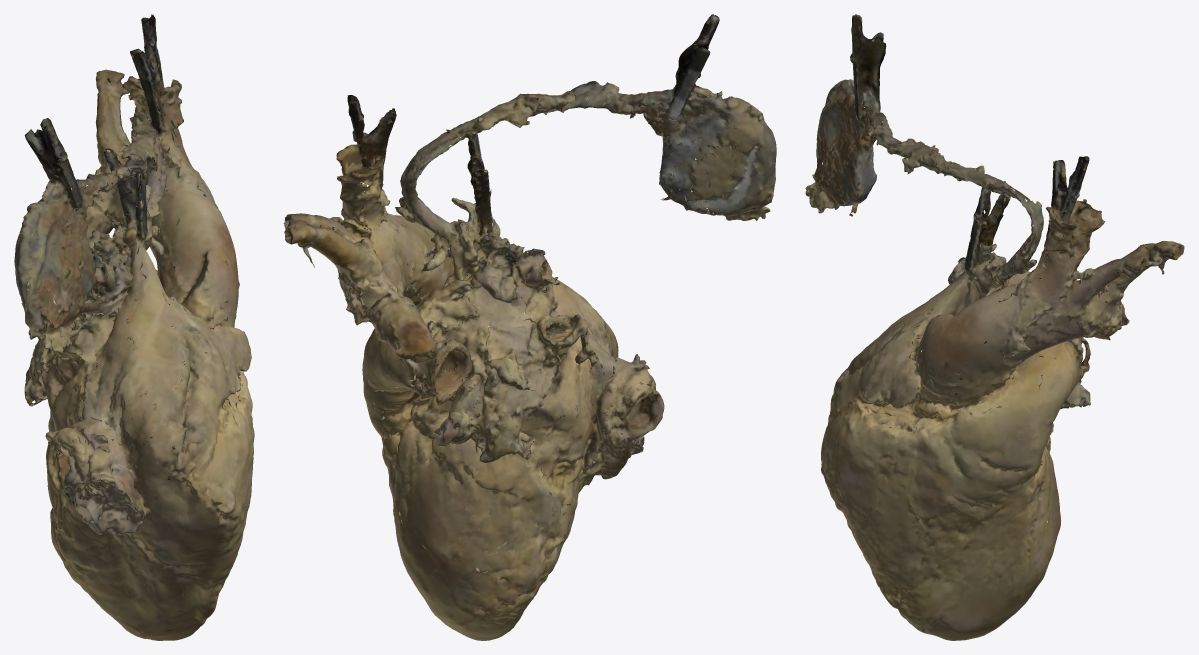
The model's file is heart-with-pace-marker.glb.
3 renders of one model, left to right at view 1: azimuth 30°, elevation 25°; view 2: azimuth 150°, elevation 25°; view 3: azimuth 270°, elevation 25°, orthographic. The views are drawn at different scales.
Visible parts, largest first — view 1: HeartPartTwo, HeartPartOne; view 2: HeartPartOne, HeartPartTwo; view 3: HeartPartTwo, HeartPartOne.
Part boxes in pixels (x1,y1,x2,y2): HeartPartTwo: (14, 15, 254, 640); HeartPartOne: (24, 14, 251, 523); HeartPartOne: (284, 14, 775, 571); HeartPartTwo: (283, 22, 776, 640); HeartPartTwo: (817, 29, 1184, 640); HeartPartOne: (805, 14, 1184, 532).
Bounding box in the file's own units: 0.1582 × 0.2958 × 0.1847.
1 material, 1 textured.
